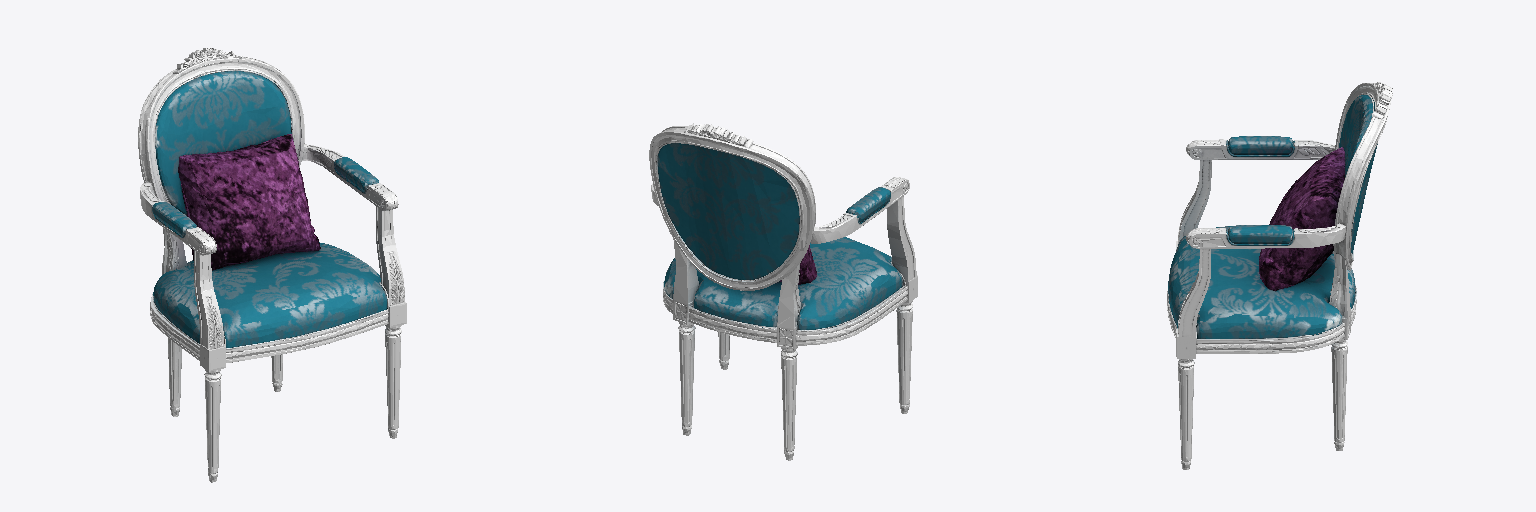
The picture shows the model from 3 angles: view 1: azimuth 30°, elevation 25°; view 2: azimuth 150°, elevation 25°; view 3: azimuth 270°, elevation 25°; orthographic projection.
Parts seen in each view (by area): view 1: solid_002, solid_001, solid_003; view 2: solid_002, solid_001; view 3: solid_001, solid_002, solid_003.
Boxes of the visible parts, <box> form: solid_002: <box>152,71,387,347</box>; solid_001: <box>138,48,406,482</box>; solid_003: <box>178,134,320,270</box>; solid_002: <box>658,143,902,329</box>; solid_001: <box>649,123,917,460</box>; solid_001: <box>1167,82,1392,469</box>; solid_002: <box>1168,95,1377,338</box>; solid_003: <box>1259,147,1344,290</box>.
Size of the model in its own units: 0.9405 by 1.53 by 0.9278.
1 materials, 1 textured.